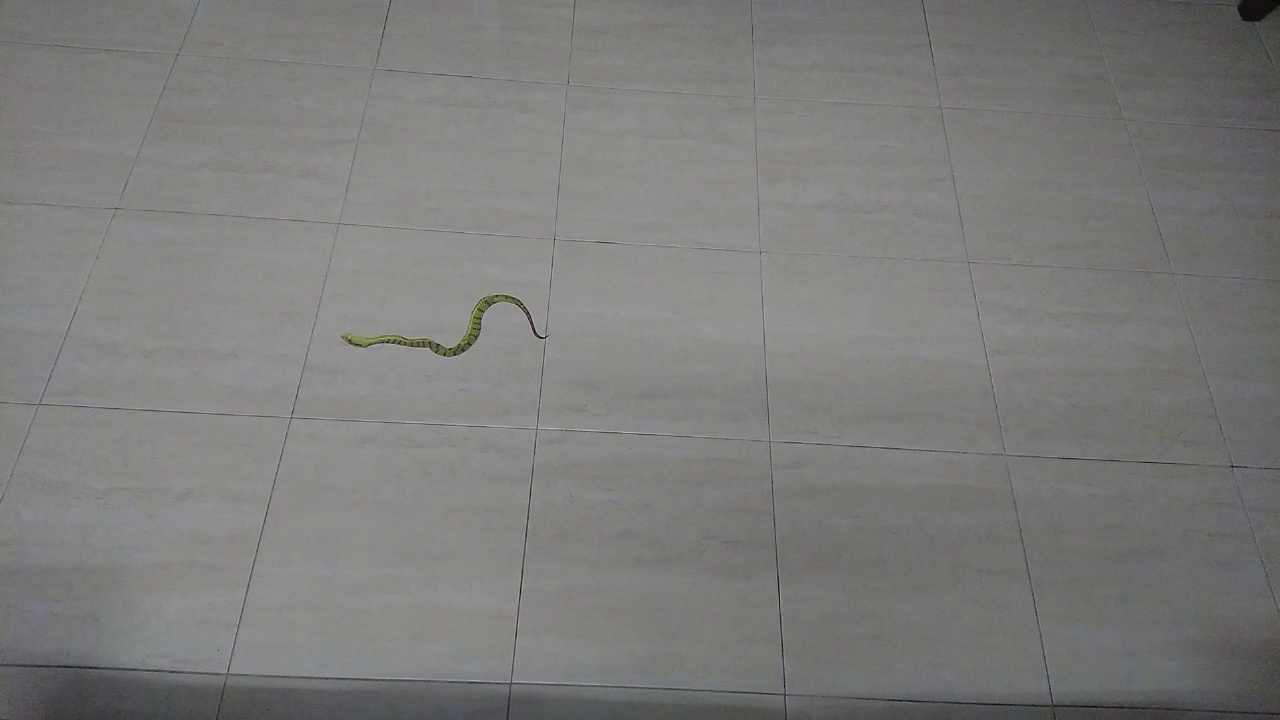snake: (321, 271, 560, 374)
